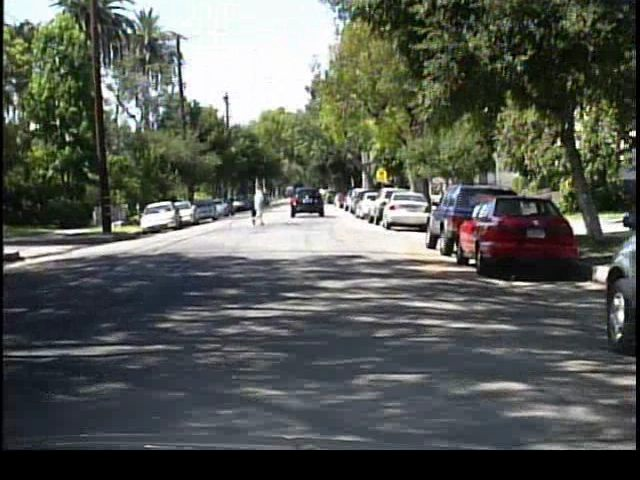person: (247, 195, 271, 239)
